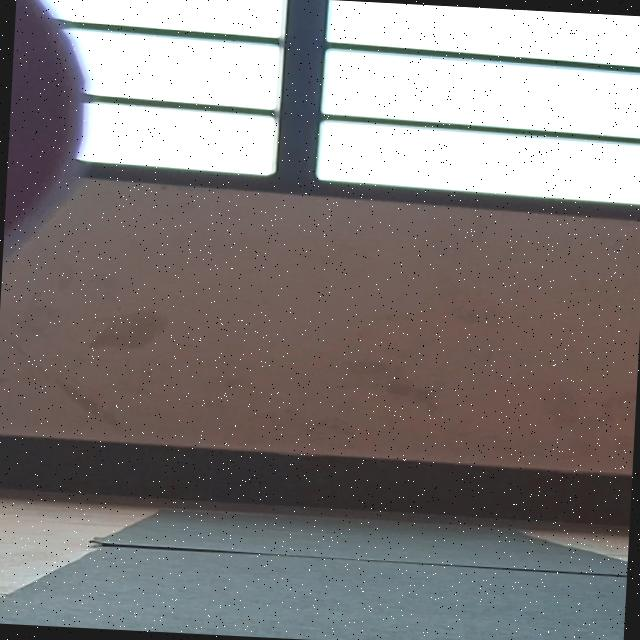Reject: (0, 0, 171, 326)
